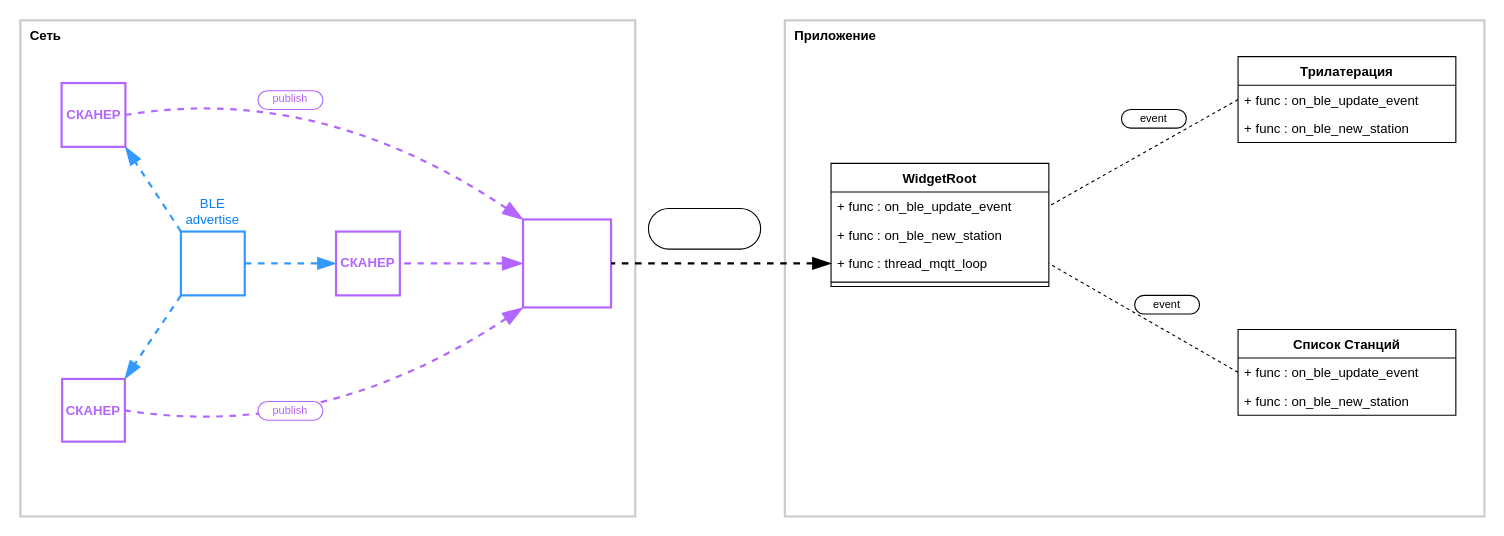
This 1504x536 diagram has some shape labels left out. The shapes that lost their labels are listed below. From the top down, each one's centre as x and y in pixels, then its label:
the point at 704,228: уведомление от брокера
the point at 212,263: МАЯК
the point at 566,263: BROKER
